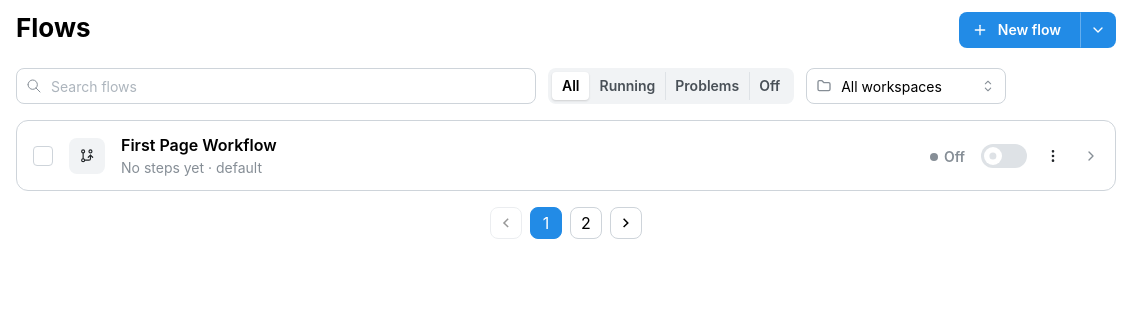
it: workflow list selection › is cleared when the page changes
Click the checkbox named "Select First Page Workflow": coordinates (43, 156) x1=33 y1=146 x2=53 y2=166
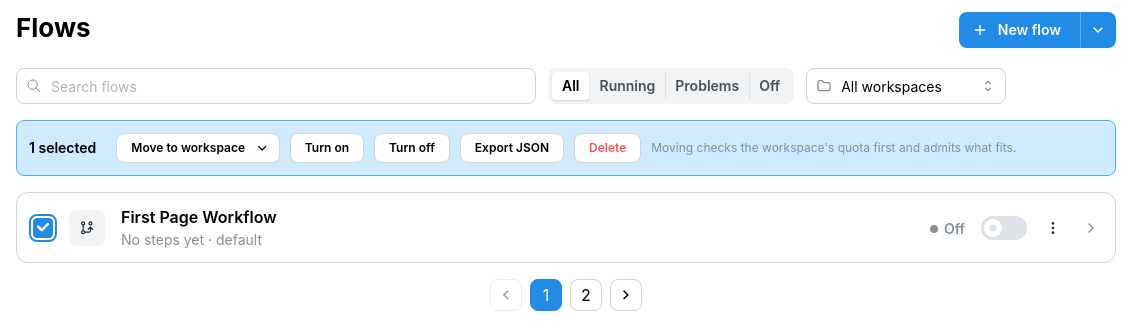
Check: the element "1 selected" is shown, box x1=16 y1=120 x2=1116 y2=176
Click the button "2": coordinates (586, 295) x1=570 y1=279 x2=602 y2=311
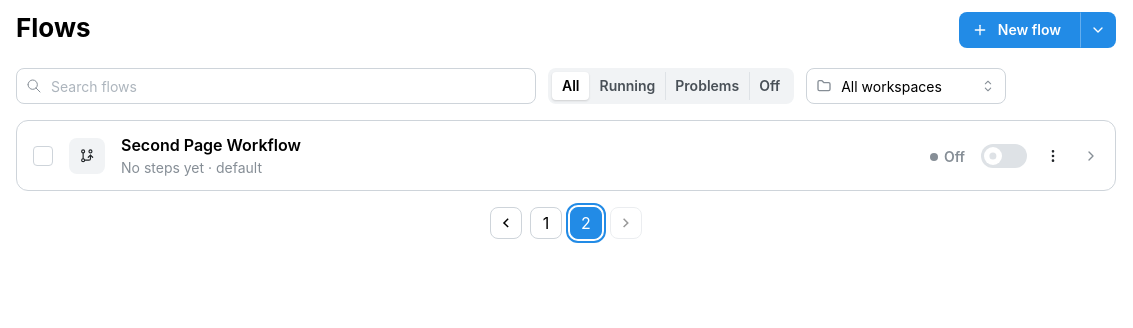
Check: the text "Second Page Workflow" is shown, box x1=121 y1=133 x2=301 y2=158
Check: the text "selected" is gone
